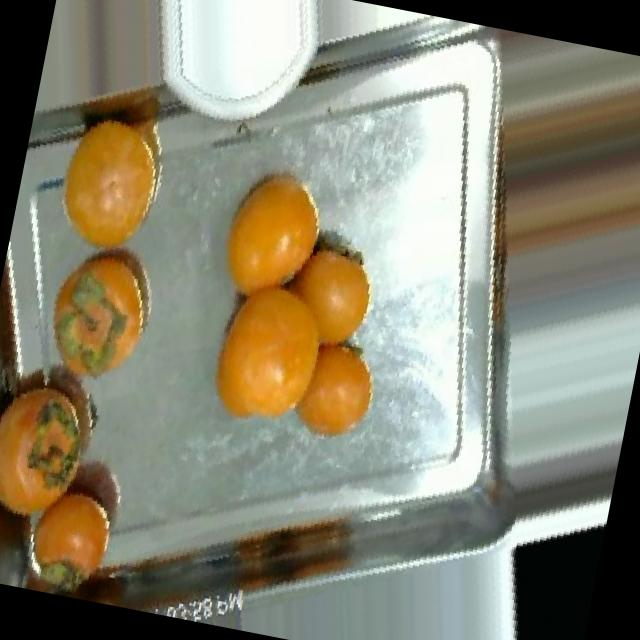Fruit: (30, 78, 196, 280), (20, 213, 185, 411), (198, 142, 350, 322), (12, 433, 154, 608), (0, 357, 120, 547), (478, 484, 610, 640), (272, 310, 402, 462)
